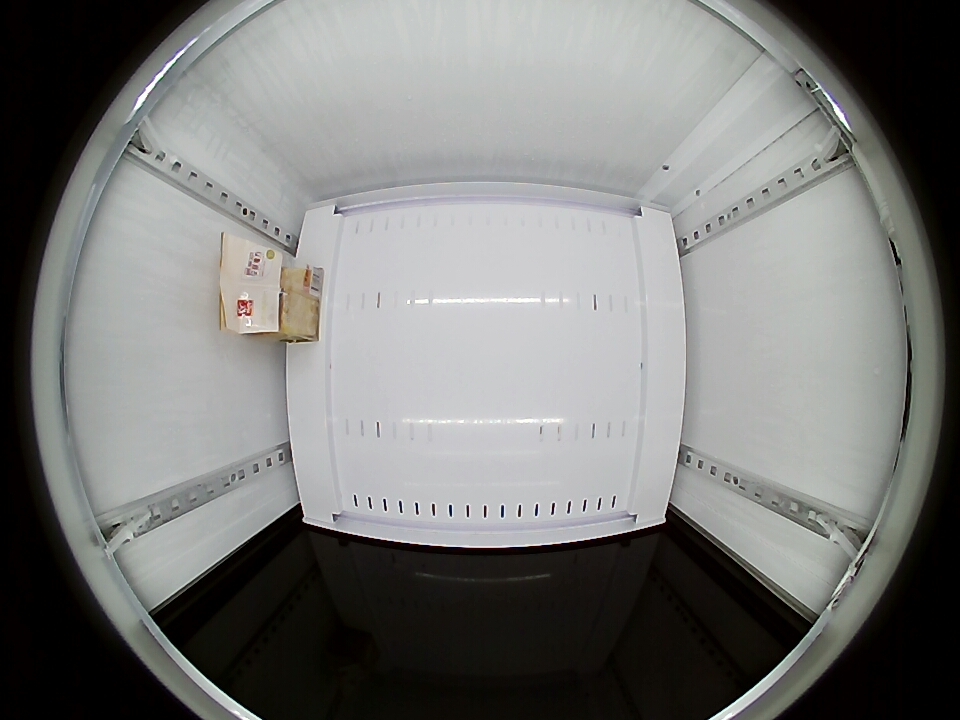zaocanmofang: (218, 235, 297, 337)
